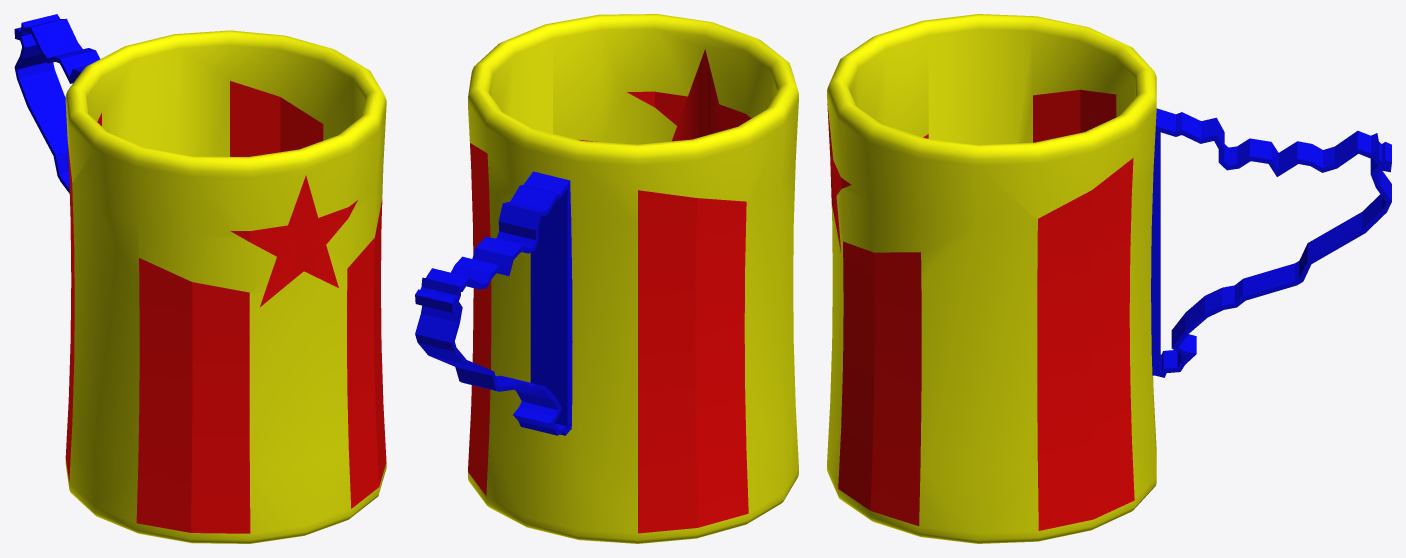
3 views of the same model, side by side, from view 1: azimuth 30°, elevation 25°; view 2: azimuth 150°, elevation 25°; view 3: azimuth 270°, elevation 25° (orthographic). The views are drawn at different scales.
Parts seen in each view (by area): view 1: mesh6_mesh6-geometry, mesh3_mesh3-geometry, mesh4_mesh4-geometry, mesh7_mesh7-geometry, mesh5_mesh5-geometry, mesh2_mesh2-geometry, mesh1_mesh1-geometry; view 2: mesh6_mesh6-geometry, mesh1_mesh1-geometry, mesh7_mesh7-geometry, mesh2_mesh2-geometry, mesh5_mesh5-geometry; view 3: mesh6_mesh6-geometry, mesh2_mesh2-geometry, mesh4_mesh4-geometry, mesh7_mesh7-geometry, mesh1_mesh1-geometry, mesh5_mesh5-geometry.
Part boxes in pixels (x1,y1,x2,y2): mesh6_mesh6-geometry: (65, 30, 386, 543); mesh3_mesh3-geometry: (136, 258, 250, 533); mesh4_mesh4-geometry: (347, 199, 386, 508); mesh7_mesh7-geometry: (14, 14, 99, 193); mesh5_mesh5-geometry: (230, 175, 357, 306); mesh2_mesh2-geometry: (230, 81, 323, 156); mesh1_mesh1-geometry: (65, 113, 101, 481); mesh6_mesh6-geometry: (468, 14, 798, 543); mesh1_mesh1-geometry: (638, 190, 748, 533); mesh7_mesh7-geometry: (415, 171, 572, 435); mesh2_mesh2-geometry: (468, 143, 491, 495); mesh5_mesh5-geometry: (627, 49, 751, 141); mesh6_mesh6-geometry: (827, 14, 1156, 543); mesh2_mesh2-geometry: (1037, 158, 1134, 530); mesh4_mesh4-geometry: (838, 241, 921, 526); mesh7_mesh7-geometry: (1151, 108, 1391, 377); mesh1_mesh1-geometry: (1033, 89, 1116, 142); mesh5_mesh5-geometry: (827, 104, 851, 251).
Bounding box in the file's own units: 0.4207 × 0.5546 × 0.7179.
